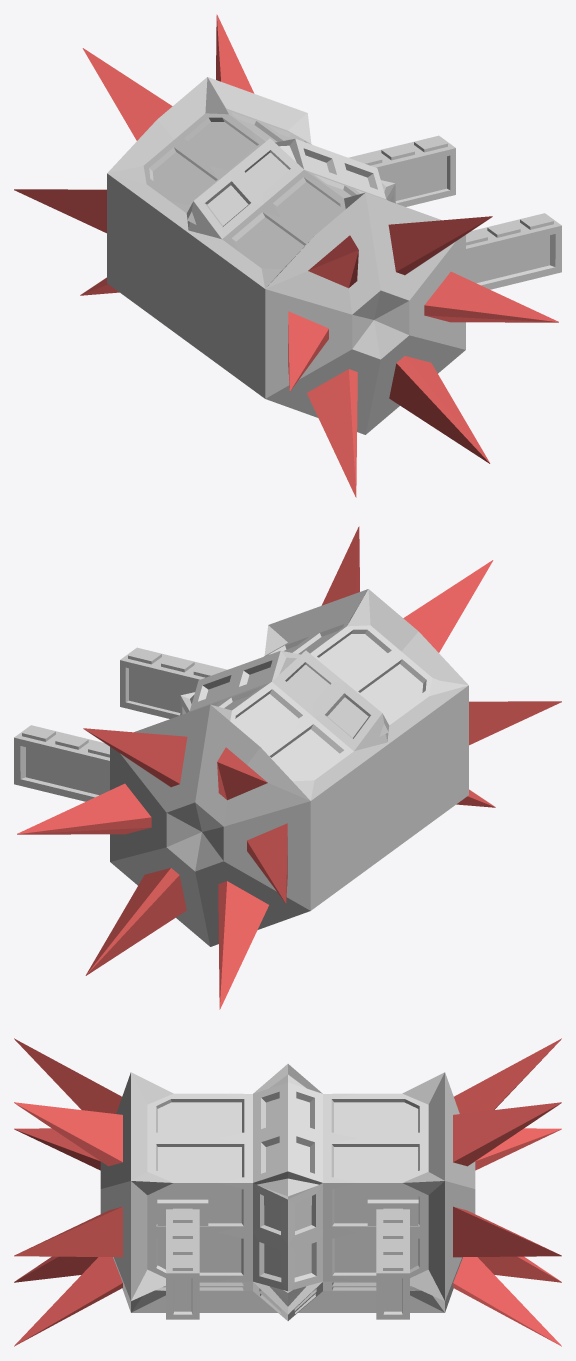
Rendered from boss.fbx.
The picture shows the model from 3 angles, top to bottom: view 1: azimuth 30°, elevation 25°; view 2: azimuth 150°, elevation 25°; view 3: azimuth 270°, elevation 25°; orthographic projection.
Visible parts, largest first — view 1: Cylinder; view 2: Cylinder; view 3: Cylinder.
Boxes of the visible parts, x1,y1,x2,y2 form: Cylinder: (14,14,561,497); Cylinder: (14,526,561,1009); Cylinder: (14,1038,561,1346).
Bounding box in the file's own units: 5.02 × 3.66 × 2.49.
